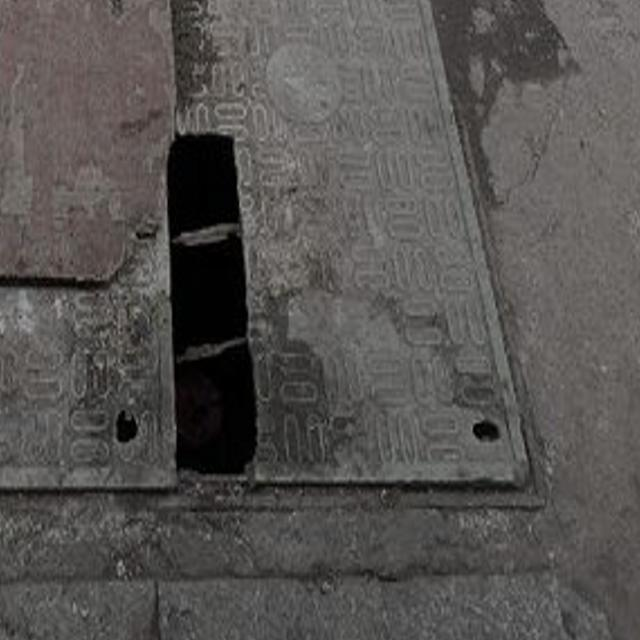broke: (0, 0, 548, 562)
